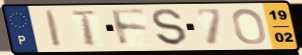7: (194, 7, 224, 47)
F: (108, 8, 151, 49)
I: (43, 8, 64, 49)
O: (230, 7, 268, 46)
S: (150, 8, 189, 47)
T: (69, 10, 100, 47)
